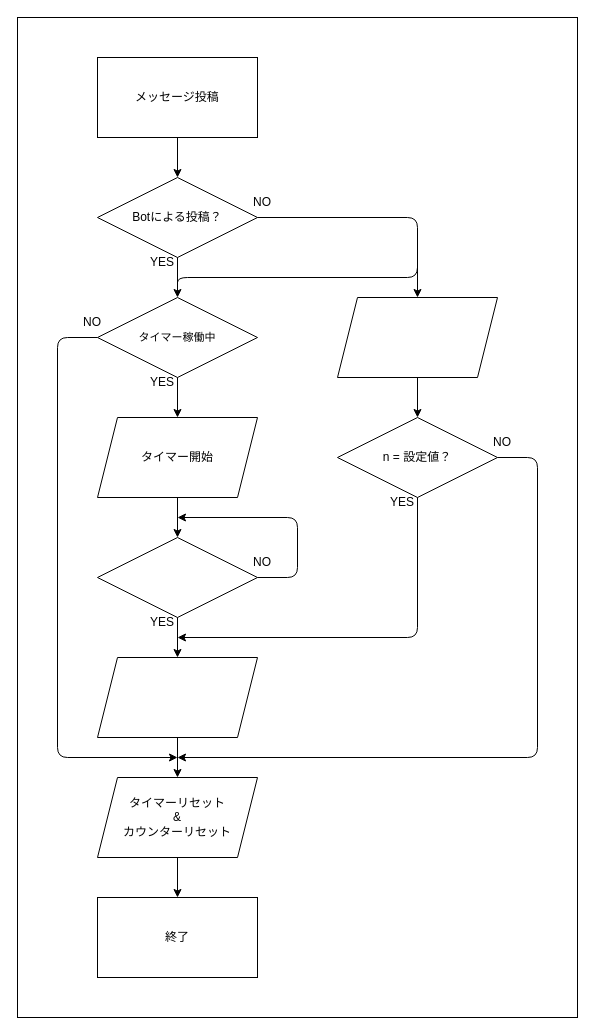
The diagram is 595 pixels wide and 1035 high, and some of its shapes have lost their labels. The shapes that lost their labels are listed below. From the top down, each one's box as (x1, y1, x2, y2) in pixels, then its label:
(336, 296, 498, 378): n = n + 1
(96, 536, 258, 618): タイマーカウントアップ？
(96, 656, 258, 738): メッセージ更新
